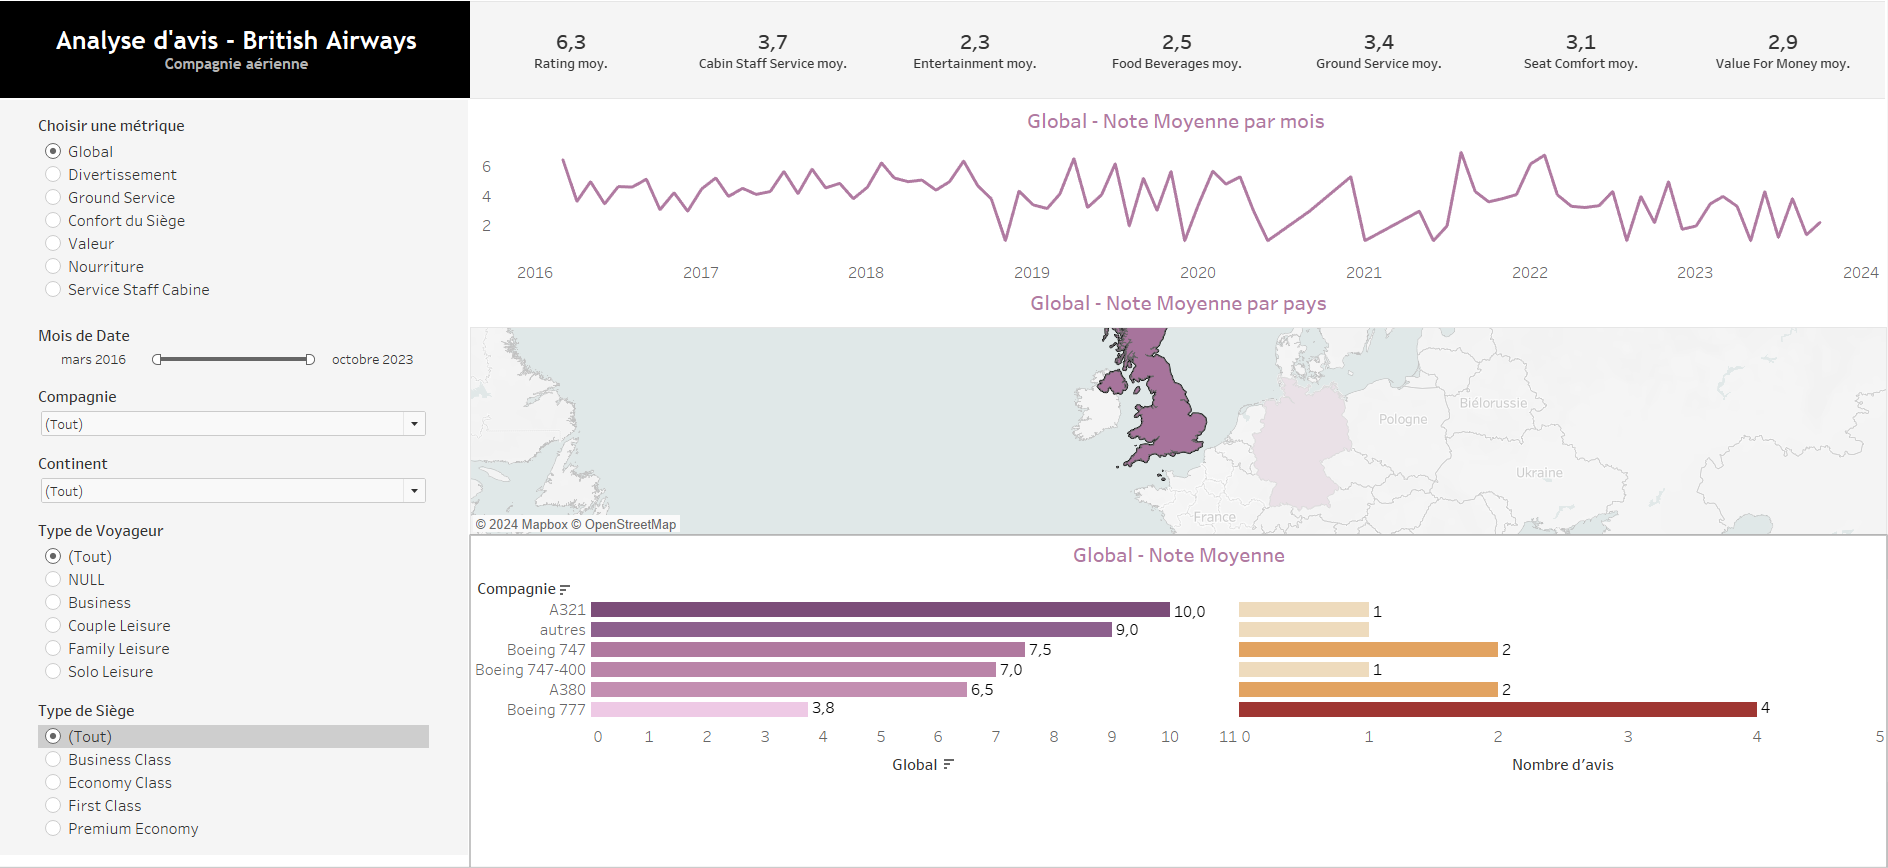

The dashboard page shown, as its layout file describes it:
{"tool":"tableau","page":{"name":"Tableau de bord 1","canvas":[1000,1000],"units":"permille","ordinal":0},"visuals":[{"type":"text","box":[0,9.2,251.6,111.1]},{"type":"worksheet","title":"Résumé","mark":"Automatic","box":[249.5,9.2,749.5,112.3]},{"type":"parameter","param":"[Parameters].[Paramètre 1]","box":[0,122.6,248.6,246.3]},{"type":"worksheet","title":"Courbe","mark":"Automatic","rows":["Calculation_712976126572388352"],"cols":["date"],"box":[248.6,124.9,750.1,209.6]},{"type":"worksheet","title":"Carte","mark":"Automatic","box":[249.2,333.3,750.8,287.5]},{"type":"filter","title":"Courbe","param":"[federated.1j4kqg205u8opp1cl757n1copmmq].[tmn:date:qk]","box":[0,368.8,248.6,69.9]},{"type":"filter","title":"Courbe","param":"[federated.1j4kqg205u8opp1cl757n1copmmq].[Aircraft (groupe)]","box":[0,438.7,248.6,76.8]},{"type":"filter","title":"Courbe","param":"[federated.1j4kqg205u8opp1cl757n1copmmq].[none:Continent:nk]","box":[0,515.5,248.6,76.8]},{"type":"filter","title":"Courbe","param":"[federated.1j4kqg205u8opp1cl757n1copmmq].[none:traveller_type:nk]","box":[0,592.2,248.6,206.2]},{"type":"filter","title":"Courbe","param":"[federated.1j4kqg205u8opp1cl757n1copmmq].[none:seat_type:nk]","box":[0,798.4,248.6,179.8]}]}

Visuals, with their boxes on the dashboard's canvas, which has no fixed pixel size, in thousandths of its width and height (x1, y1, x2, y2). These are canvas units, not pixel positions in the 1888x868 screenshot, which may show the page scaled, cropped or inside an application window:
text: pyautogui.locateOnScreen(0, 9, 252, 120)
"Résumé" worksheet: pyautogui.locateOnScreen(250, 9, 999, 122)
parameter: pyautogui.locateOnScreen(0, 123, 249, 369)
"Courbe" worksheet: pyautogui.locateOnScreen(249, 125, 999, 334)
"Carte" worksheet: pyautogui.locateOnScreen(249, 333, 1000, 621)
"Courbe" filter: pyautogui.locateOnScreen(0, 369, 249, 439)
"Courbe" filter: pyautogui.locateOnScreen(0, 439, 249, 516)
"Courbe" filter: pyautogui.locateOnScreen(0, 516, 249, 592)
"Courbe" filter: pyautogui.locateOnScreen(0, 592, 249, 798)
"Courbe" filter: pyautogui.locateOnScreen(0, 798, 249, 978)
